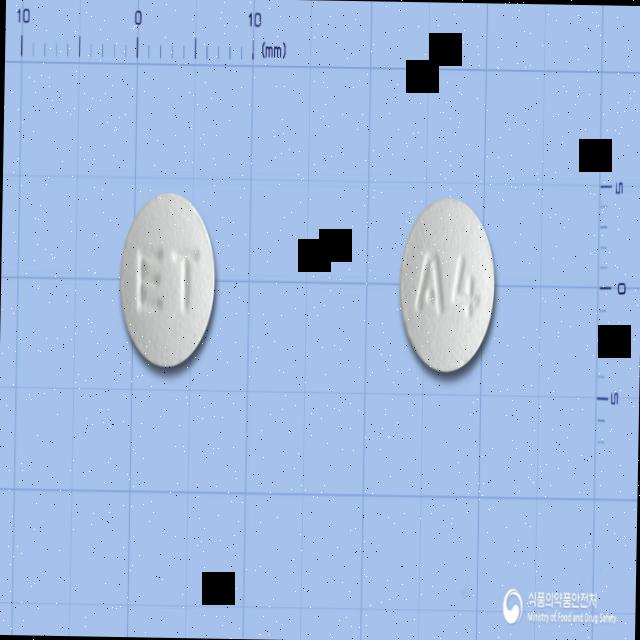Leprex: (398, 195, 497, 376), (118, 191, 215, 367)
